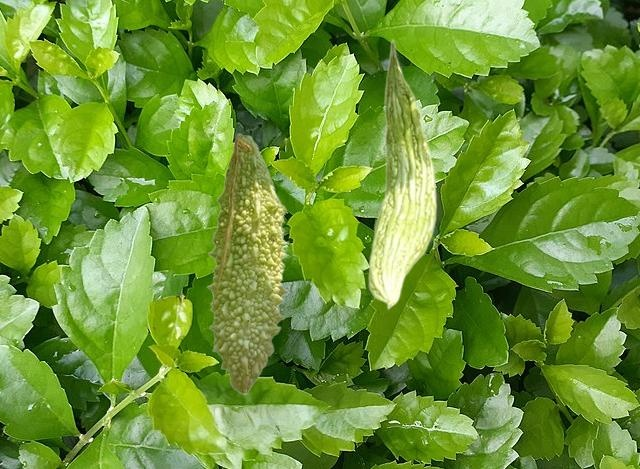ampalaya: (204, 131, 290, 397), (367, 36, 439, 311)
